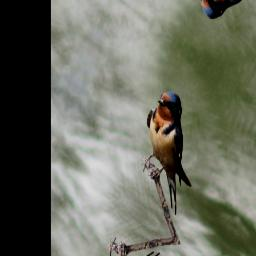Swallow: (121, 80, 215, 217)
